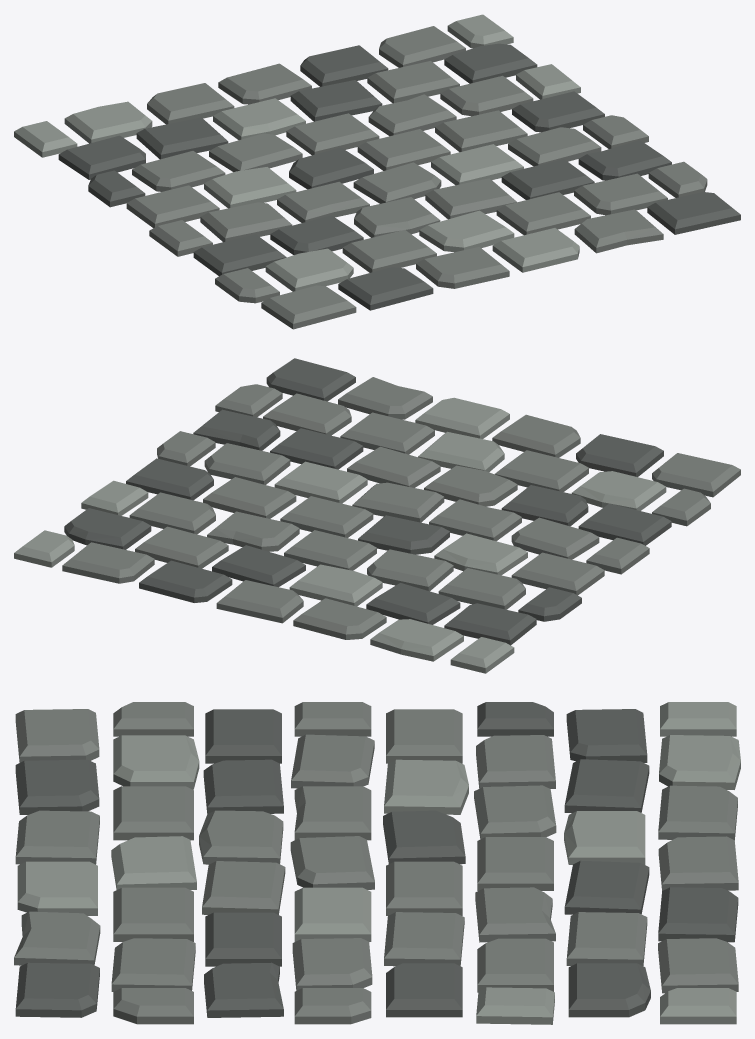
Rendered from SM_Env_Path_Cobble_01.gltf.
3 renders of one model, top to bottom at view 1: azimuth 30°, elevation 25°; view 2: azimuth 150°, elevation 25°; view 3: azimuth 270°, elevation 25°, orthographic. The views are drawn at different scales.
Parts seen in each view (by area): view 1: SM_Env_Path_Cobble_01; view 2: SM_Env_Path_Cobble_01; view 3: SM_Env_Path_Cobble_01.
Boxes of the visible parts, left/top/right/bottom form: SM_Env_Path_Cobble_01: left=14, top=14, right=740, bottom=329; SM_Env_Path_Cobble_01: left=14, top=358, right=740, bottom=673; SM_Env_Path_Cobble_01: left=14, top=702, right=740, bottom=1024.
Size of the model in its own units: 3.01 by 0.0678 by 2.97.
1 material, 1 textured.
